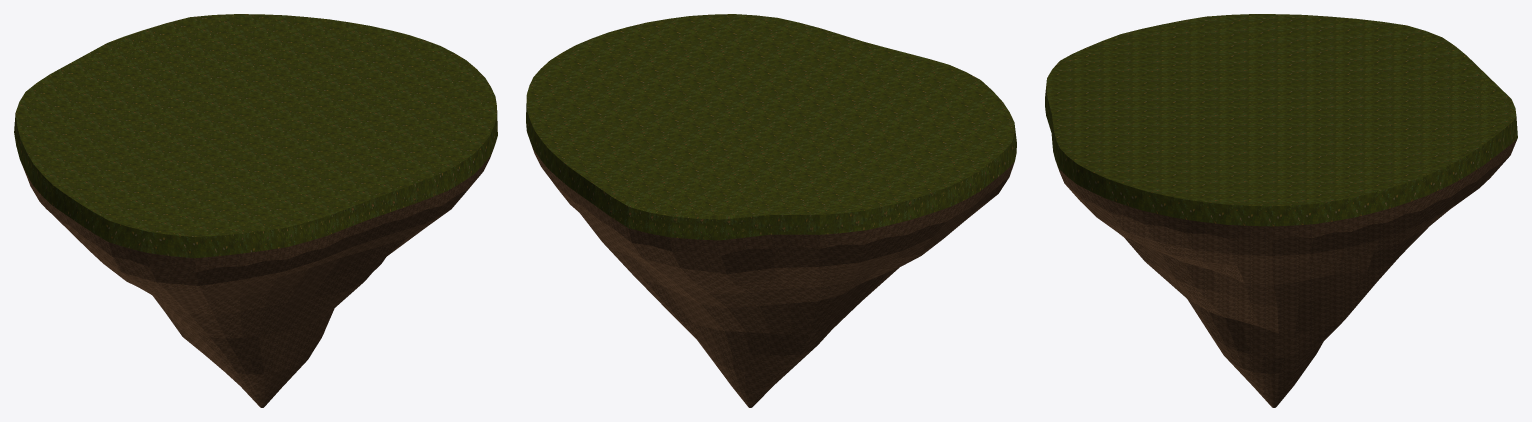
The model's file is FLYING CHUNK 1 .fbx.
3 renders of one model, left to right at view 1: azimuth 30°, elevation 25°; view 2: azimuth 150°, elevation 25°; view 3: azimuth 270°, elevation 25°, orthographic.
Visible parts, largest first — view 1: Cylinder; view 2: Cylinder; view 3: Cylinder.
Part boxes in pixels (x1,y1,x2,y2): Cylinder: (14, 14, 497, 407); Cylinder: (526, 14, 1016, 407); Cylinder: (1045, 14, 1517, 407).
Bounding box in the file's own units: 802 × 539 × 767.
3 materials, 3 textured.
